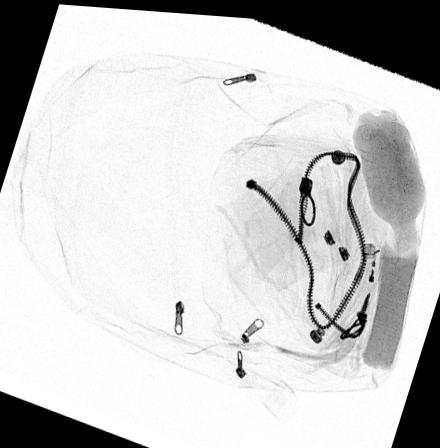Lighter: (351, 237, 381, 316)
